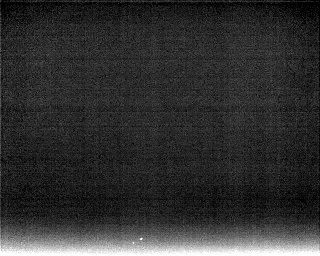BIRD: (138, 235, 145, 243)
